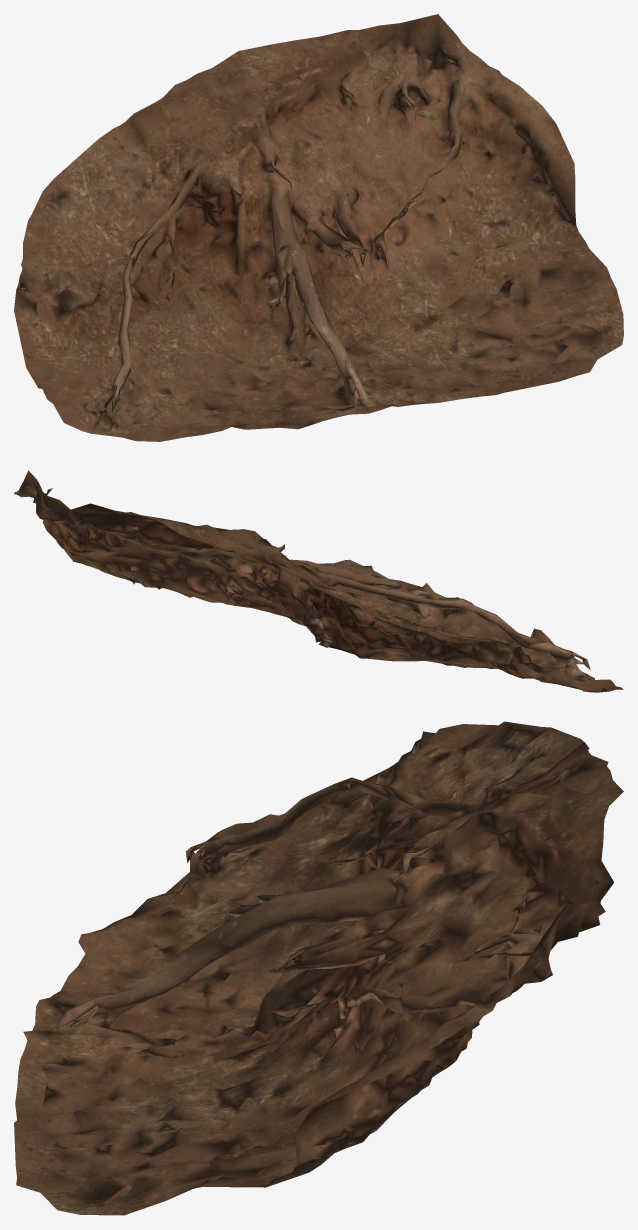
File: root_cluster_01.glb
3 renders of one model, top to bottom at view 1: azimuth 30°, elevation 25°; view 2: azimuth 150°, elevation 25°; view 3: azimuth 270°, elevation 25°, orthographic. The views are drawn at different scales.
Visible parts, largest first — view 1: root_cluster_01; view 2: root_cluster_01; view 3: root_cluster_01.
Boxes of the visible parts, x1,y1,x2,y2 form: root_cluster_01: (14, 14, 623, 441); root_cluster_01: (14, 470, 623, 692); root_cluster_01: (14, 721, 623, 1215).
Size of the model in its own units: 4.12 by 1.51 by 2.68.
1 material, 1 textured.
